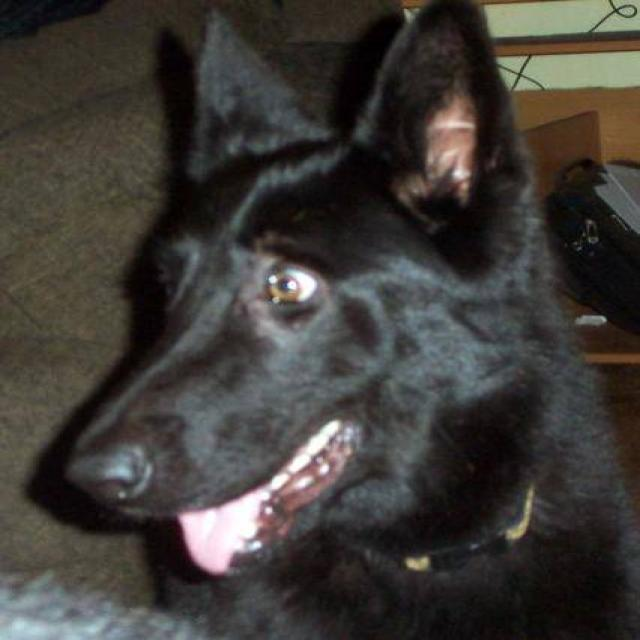dogs: (37, 1, 640, 639)
